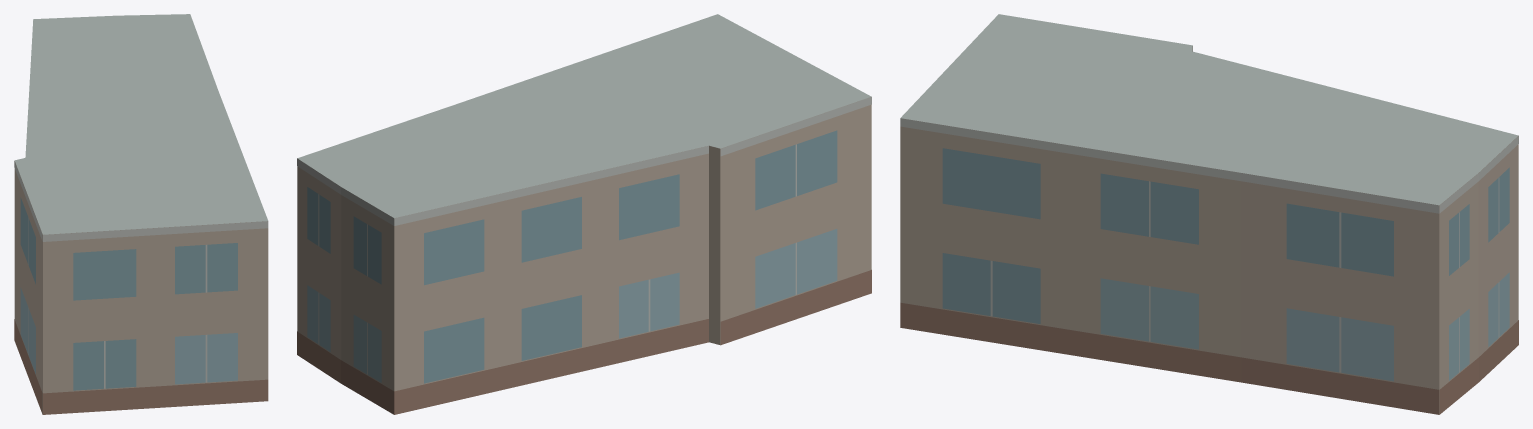
Rendered from survey-upis-32871307.glb.
3 views of the same model, side by side, from view 1: azimuth 30°, elevation 25°; view 2: azimuth 150°, elevation 25°; view 3: azimuth 270°, elevation 25° (orthographic). The views are drawn at different scales.
Parts seen in each view (by area): view 1: survey-upis-32871307.tmp; view 2: survey-upis-32871307.tmp; view 3: survey-upis-32871307.tmp.
Part boxes in pixels (x1,y1,x2,y2): survey-upis-32871307.tmp: (14, 14, 268, 414); survey-upis-32871307.tmp: (297, 14, 871, 414); survey-upis-32871307.tmp: (900, 14, 1518, 414).
Size of the model in its own units: 11.95 by 6.1 by 16.33.
